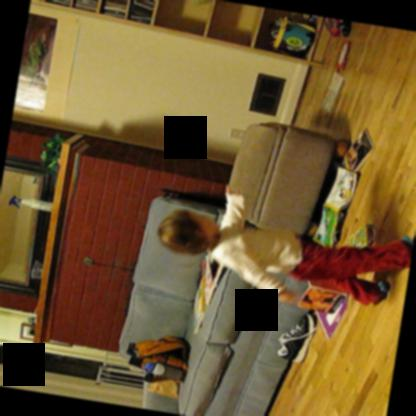backpack: (126, 333, 190, 359)
